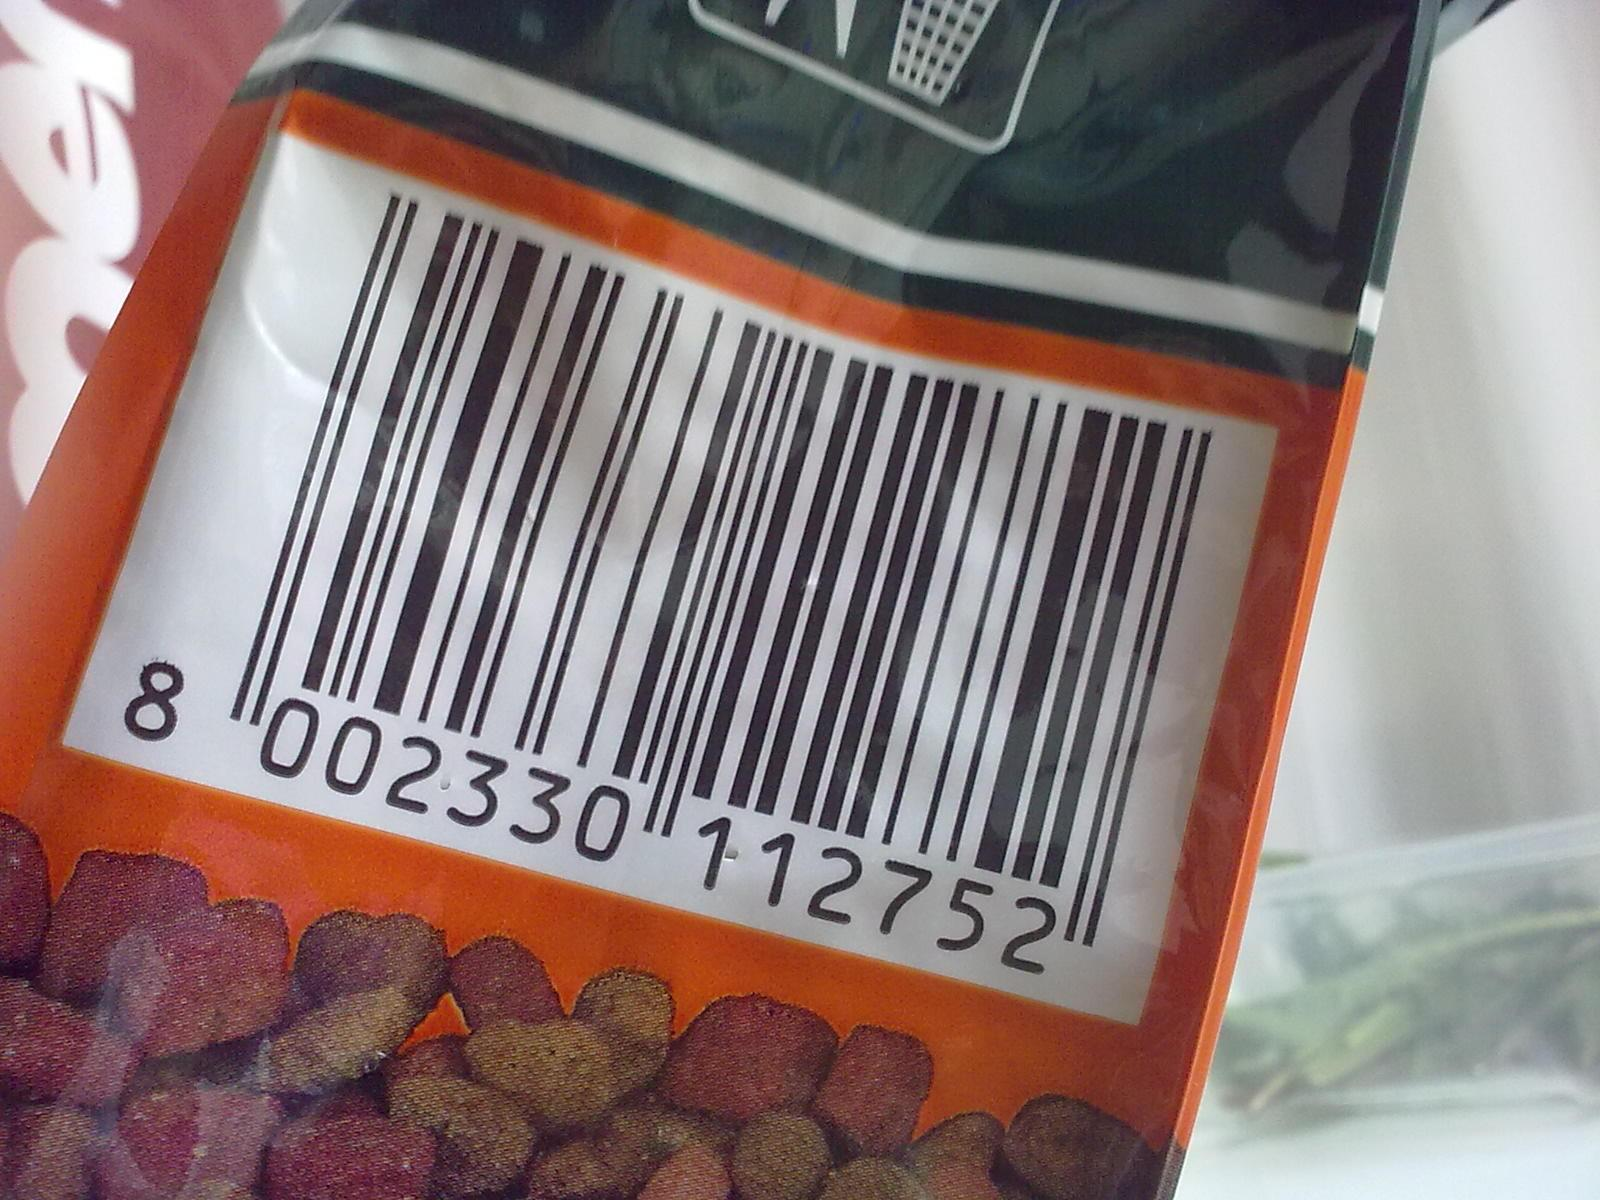barcode: (62, 124, 1276, 1029)
